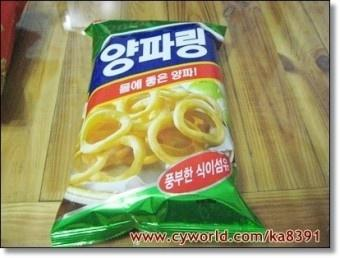snack: (49, 18, 269, 247)
